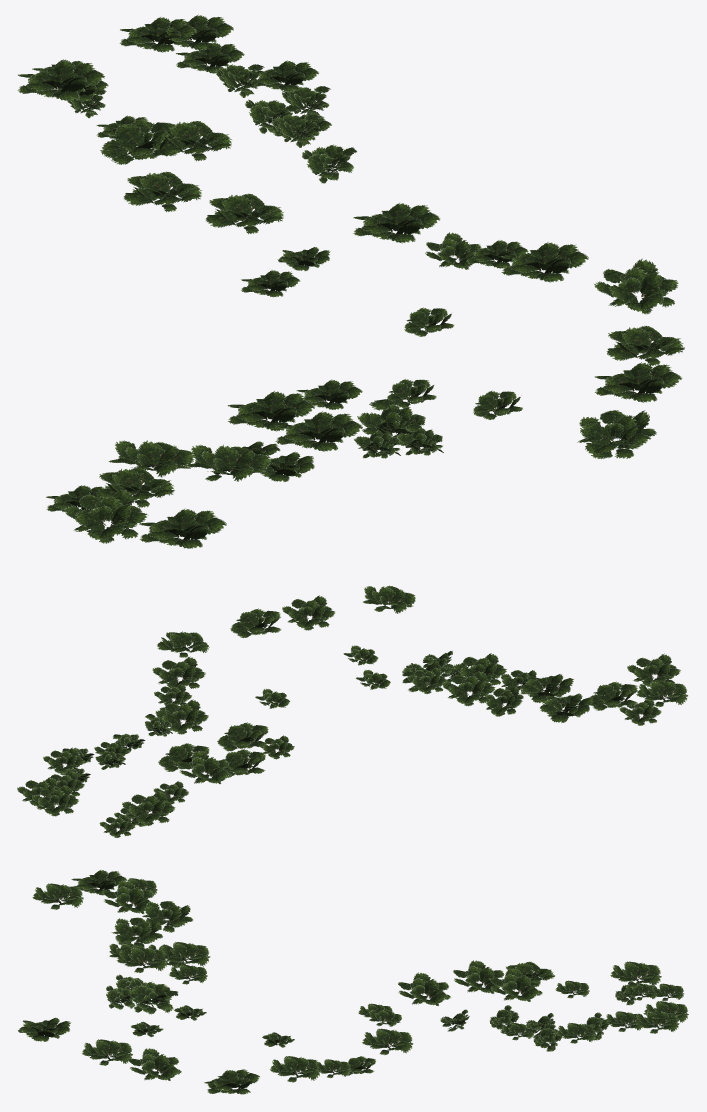
File: Folliage_Block_1.FBX
The picture shows the model from 3 angles, top to bottom: view 1: azimuth 30°, elevation 25°; view 2: azimuth 150°, elevation 25°; view 3: azimuth 270°, elevation 25°; orthographic projection. The views are drawn at different scales.
Parts seen in each view (by area): view 1: Object3849; view 2: Object3849; view 3: Object3849.
Part boxes in pixels (box(x1,y1,x2,y2)): Object3849: box(17, 14, 684, 548); Object3849: box(17, 585, 688, 837); Object3849: box(18, 870, 688, 1094).
Size of the model in its own units: 316 by 41.11 by 408.
